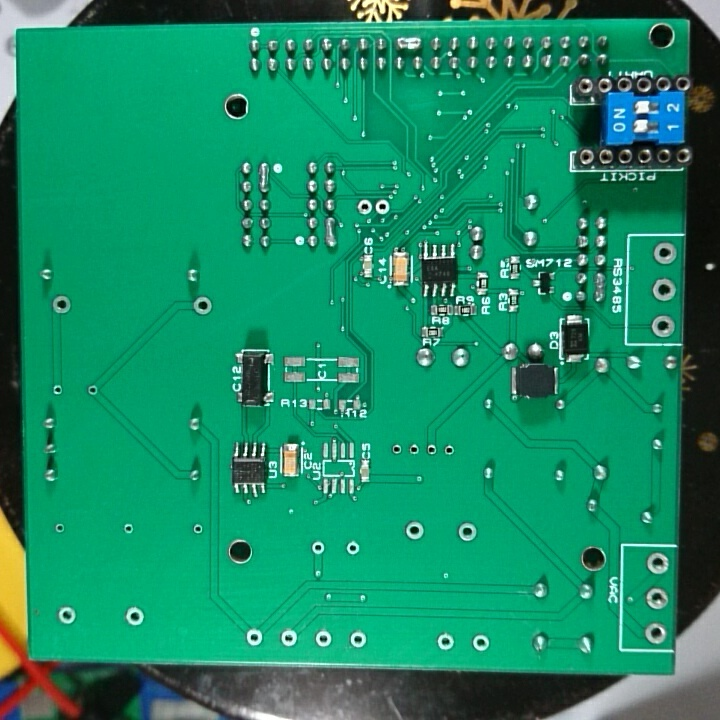F: (650, 238, 679, 269), (650, 275, 678, 305), (643, 585, 671, 615), (650, 313, 679, 340), (644, 551, 671, 577), (454, 520, 481, 546), (121, 605, 150, 629), (642, 619, 667, 646), (50, 293, 74, 320), (54, 603, 80, 627), (403, 518, 427, 542), (190, 295, 216, 317), (433, 630, 458, 652), (347, 627, 369, 652), (276, 625, 299, 648), (244, 625, 264, 649), (471, 632, 493, 653), (313, 628, 335, 649), (354, 195, 374, 218), (373, 195, 393, 218), (342, 539, 364, 559), (440, 441, 459, 463), (308, 538, 328, 557), (421, 442, 441, 460), (84, 380, 101, 400), (387, 441, 405, 458), (190, 521, 206, 540), (406, 440, 421, 460), (49, 383, 66, 399), (121, 520, 136, 538), (53, 520, 67, 538)
P: (323, 215, 341, 252), (593, 269, 610, 308), (393, 33, 425, 52), (255, 158, 271, 195)
